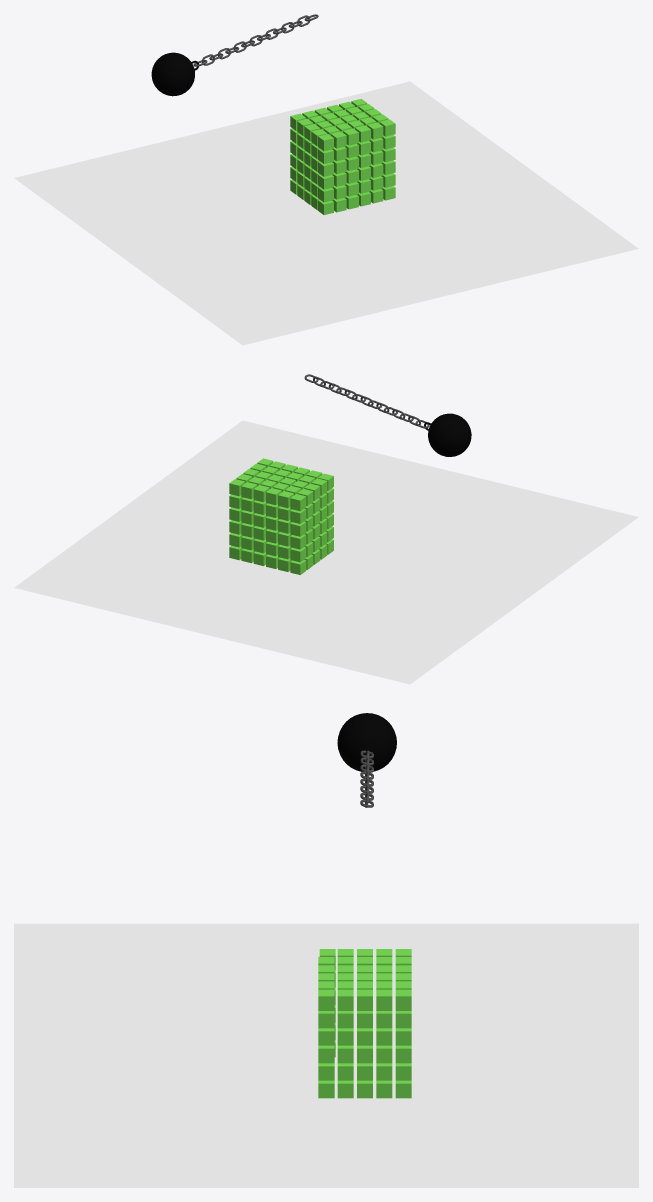
The picture shows the model from 3 angles, top to bottom: view 1: azimuth 30°, elevation 25°; view 2: azimuth 150°, elevation 25°; view 3: azimuth 270°, elevation 25°; orthographic projection. The views are drawn at different scales.
Visible parts, largest first — view 1: Plane, Torus.001; view 2: Plane, Torus.001; view 3: Plane, Torus.001.
Boxes of the visible parts, <box> form: Plane: <box>14,81,638,345</box>; Torus.001: <box>151,52,198,96</box>; Plane: <box>14,420,638,684</box>; Torus.001: <box>424,413,471,456</box>; Plane: <box>14,923,638,1187</box>; Torus.001: <box>337,713,396,771</box>.
Size of the model in its own units: 114 by 51.81 by 114.
